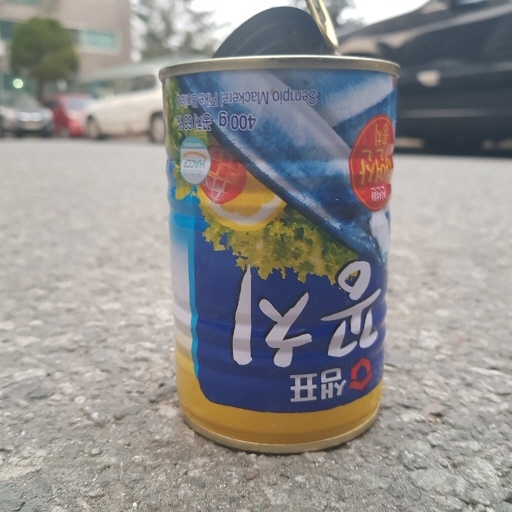Metal_1: (151, 1, 401, 452)
